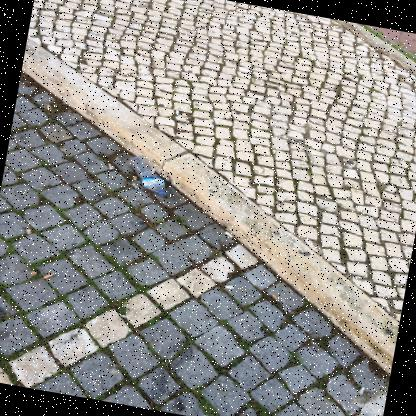Cigarette: (43, 273, 55, 278), (224, 231, 233, 237), (271, 294, 277, 302), (225, 285, 234, 289), (107, 163, 112, 169), (133, 176, 136, 180)
Clear plastic bottle: (129, 156, 167, 196)
